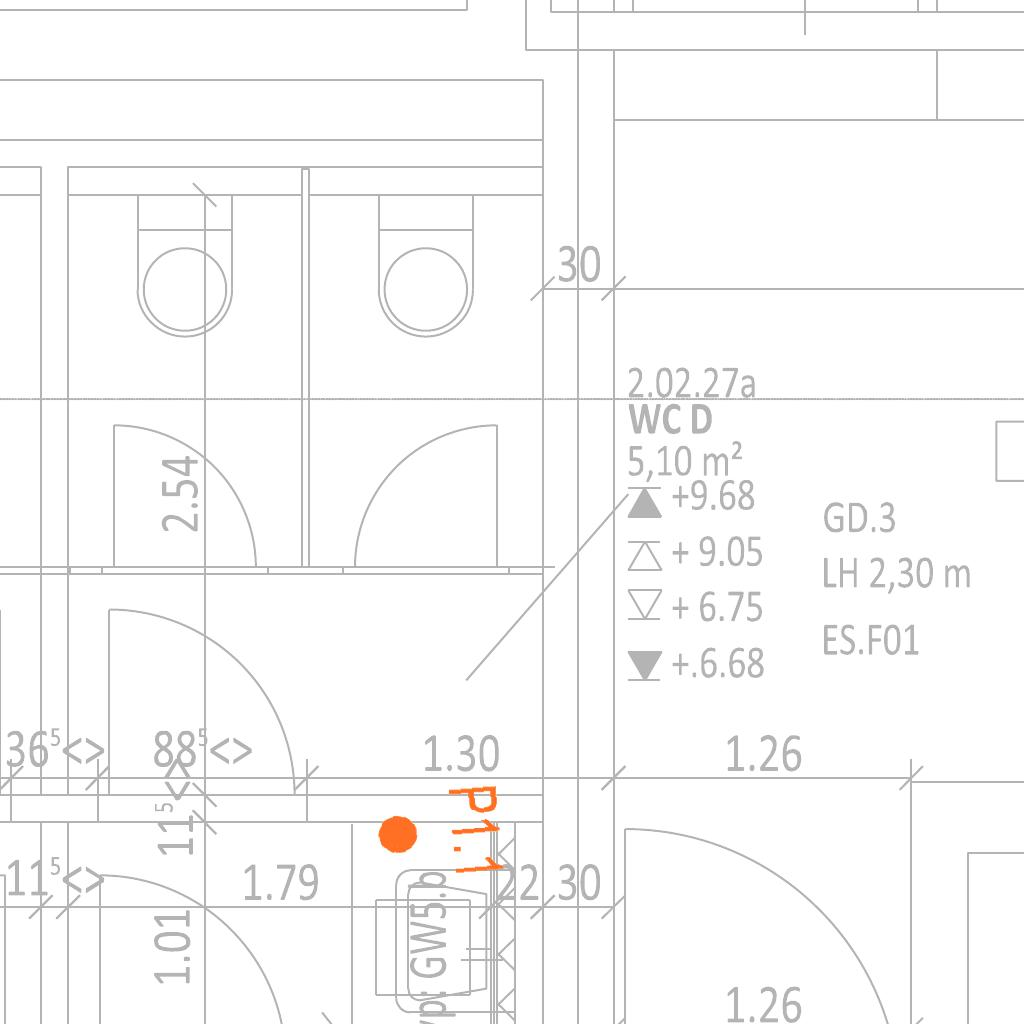Downlight_LED_Einbauleuchten_Flur_2: (371, 782, 508, 886)
